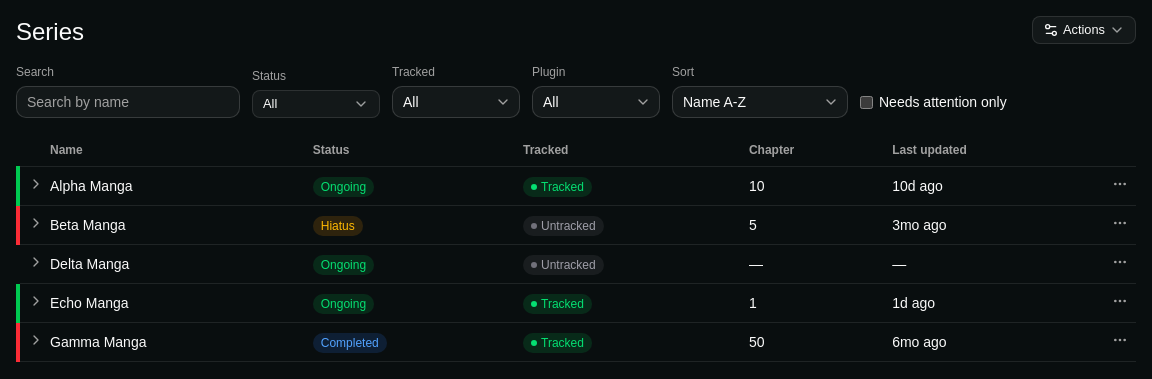
Test case: SeriesPage › narrows by tracked state
Expected: the link "Alpha Manga" is shown, [50, 178, 132, 194]
Click the dropdown named "Tracked".
click(456, 102)  # box [392, 86, 520, 118]
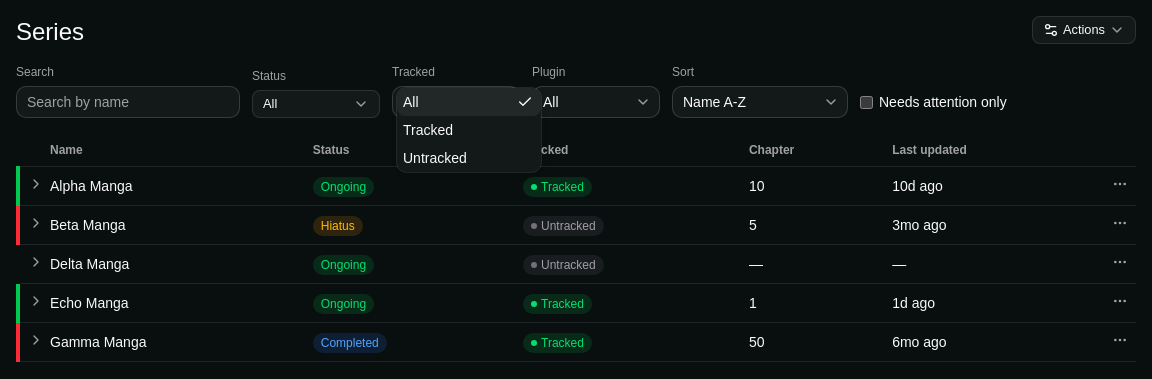
Click the option "Untracked".
click(435, 158)  # box [403, 150, 467, 166]
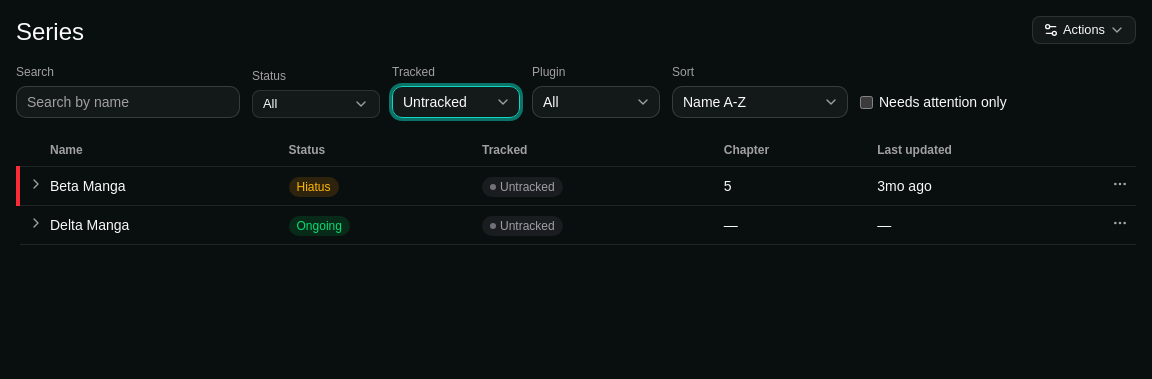
Expected: the link "Beta Manga" is shown, [50, 178, 126, 194]
Expected: the link "Alpha Manga" is gone
